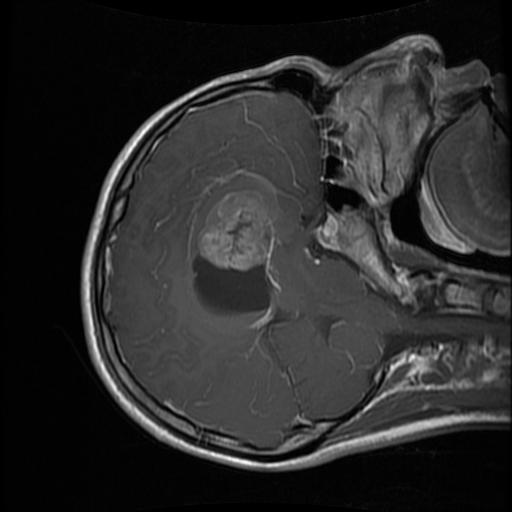glioma: (190, 191, 271, 316)
